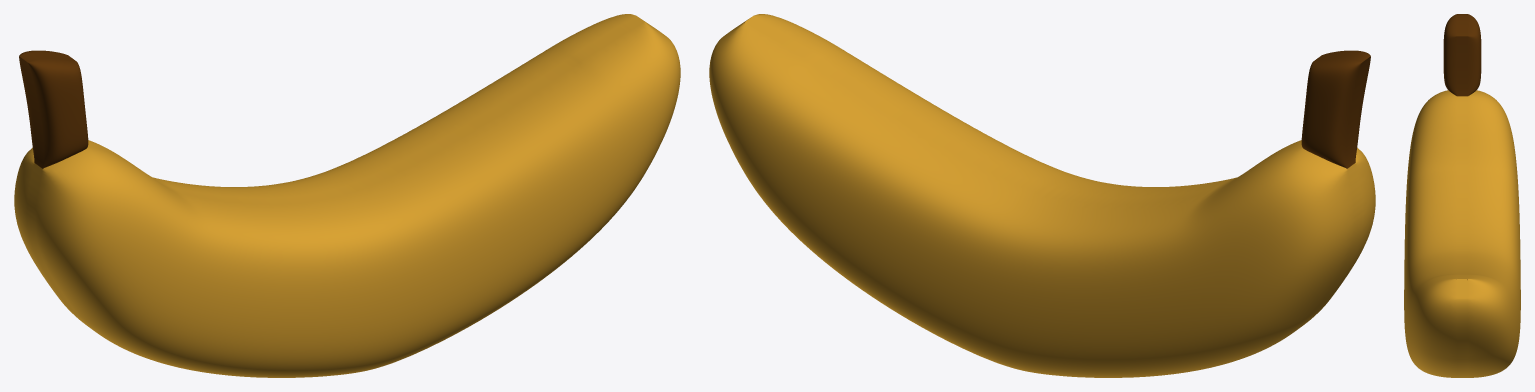
File: banana.gltf
The picture shows the model from 3 angles, left to right: view 1: azimuth 30°, elevation 25°; view 2: azimuth 150°, elevation 25°; view 3: azimuth 270°, elevation 25°; orthographic projection. The views are drawn at different scales.
Visible parts, largest first — view 1: banana; view 2: banana; view 3: banana.
Part boxes in pixels (x1,y1,x2,y2): banana: (14,14,680,377); banana: (709,14,1375,377); banana: (1404,14,1520,377).
Bounding box in the file's own units: 3.12 × 1.74 × 0.7611.
